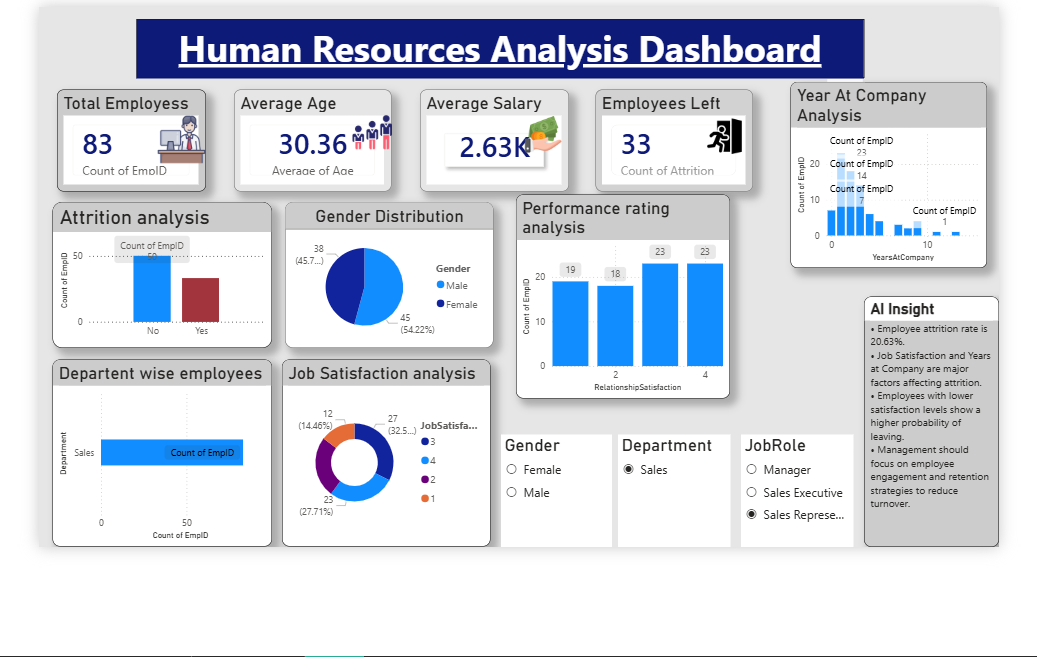

What the dashboard file says about the page in this screenshot:
{"tool":"powerbi","page":{"name":"Page 1","canvas":[1280,720],"ordinal":0},"visuals":[{"type":"textbox","box":[130.4,15.1,969.5,79.4],"z":0},{"type":"cardVisual","title":"Total Employess","fields":{"Data":["CountNonNull(HR_Analytics.EmpID)"]},"box":[24.6,109.6,198.4,136.1],"z":1000},{"type":"cardVisual","title":"Average Age","fields":{"Data":["Avg(HR_Analytics.Age)"]},"box":[260.2,109.6,209.8,136.1],"z":2000},{"type":"cardVisual","title":"Average Salary","fields":{"Data":["Avg(HR_Analytics.MonthlyIncome)"]},"box":[507.1,109.6,198.4,136.1],"z":3000},{"type":"cardVisual","title":"Employees Left","fields":{"Data":["CountNonNull(HR_Analytics.Attrition)"]},"box":[742.7,109.6,209.8,136.1],"z":4000},{"type":"clusteredColumnChart","title":"Attrition analysis","fields":{"Category":["HR_Analytics.Attrition"],"Y":["CountNonNull(HR_Analytics.EmpID)"]},"box":[17,260.8,292.9,194.6],"z":5000},{"type":"barChart","title":"Departent wise employees","fields":{"Category":["HR_Analytics.Department"],"Y":["CountNonNull(HR_Analytics.EmpID)"]},"box":[17,470.6,292.9,249.5],"z":6000},{"type":"pieChart","title":" Gender Distribution","fields":{"Category":["HR_Analytics.Gender"],"Y":["CountNonNull(HR_Analytics.EmpID)"]},"box":[328.8,260.8,277.8,194.6],"z":7000},{"type":"donutChart","title":" Job Satisfaction analysis","fields":{"Category":["HR_Analytics.JobSatisfaction"],"Y":["CountNonNull(HR_Analytics.EmpID)"]},"box":[323.2,470.6,277.8,249.5],"z":8000},{"type":"columnChart","title":"Performance rating analysis","fields":{"Category":["HR_Analytics.RelationshipSatisfaction"],"Y":["CountNonNull(HR_Analytics.EmpID)"]},"box":[636.9,249.5,285.4,272.1],"z":9000},{"type":"lineStackedColumnComboChart","title":" Year At Company Analysis","fields":{"Category":["HR_Analytics.YearsAtCompany"],"Y":["CountNonNull(HR_Analytics.EmpID)"]},"box":[1002,100,262,248],"z":10000},{"type":"listSlicer","fields":{"Values":["HR_Analytics.Department"]},"box":[772,570,150,150],"z":11000},{"type":"listSlicer","fields":{"Values":["HR_Analytics.Gender"]},"box":[616,570,148,150],"z":12000},{"type":"listSlicer","fields":{"Values":["HR_Analytics.JobRole"]},"box":[936,570,150,150],"z":13000},{"type":"image","box":[417.6,136.1,52.9,62.4],"z":14000},{"type":"image","box":[878.7,141.7,71.8,60.5],"z":15000},{"type":"image","box":[640.6,141.7,64.3,56.7],"z":16000},{"type":"image","box":[158.7,134.2,64.3,85],"z":17000},{"type":"textbox","title":"AI Insight","box":[1100,386,180,334],"z":19000}]}

Visuals, with their boxes on the page's 1280x720 design canvas (x1, y1, x2, y2). These are canvas units, not pixel positions in the 1037x657 screenshot, which may show the page scaled, cropped or inside an application window:
textbox: pyautogui.locateOnScreen(130, 15, 1100, 94)
"Total Employess" cardVisual: pyautogui.locateOnScreen(25, 110, 223, 246)
"Average Age" cardVisual: pyautogui.locateOnScreen(260, 110, 470, 246)
"Average Salary" cardVisual: pyautogui.locateOnScreen(507, 110, 706, 246)
"Employees Left" cardVisual: pyautogui.locateOnScreen(743, 110, 952, 246)
"Attrition analysis" clusteredColumnChart: pyautogui.locateOnScreen(17, 261, 310, 455)
"Departent wise employees" barChart: pyautogui.locateOnScreen(17, 471, 310, 720)
" Gender Distribution" pieChart: pyautogui.locateOnScreen(329, 261, 607, 455)
" Job Satisfaction analysis" donutChart: pyautogui.locateOnScreen(323, 471, 601, 720)
"Performance rating analysis" columnChart: pyautogui.locateOnScreen(637, 250, 922, 522)
" Year At Company Analysis" lineStackedColumnComboChart: pyautogui.locateOnScreen(1002, 100, 1264, 348)
listSlicer - HR_Analytics.Department: pyautogui.locateOnScreen(772, 570, 922, 720)
listSlicer - HR_Analytics.Gender: pyautogui.locateOnScreen(616, 570, 764, 720)
listSlicer - HR_Analytics.JobRole: pyautogui.locateOnScreen(936, 570, 1086, 720)
image: pyautogui.locateOnScreen(418, 136, 470, 198)
image: pyautogui.locateOnScreen(879, 142, 950, 202)
image: pyautogui.locateOnScreen(641, 142, 705, 198)
image: pyautogui.locateOnScreen(159, 134, 223, 219)
"AI Insight" textbox: pyautogui.locateOnScreen(1100, 386, 1280, 720)
